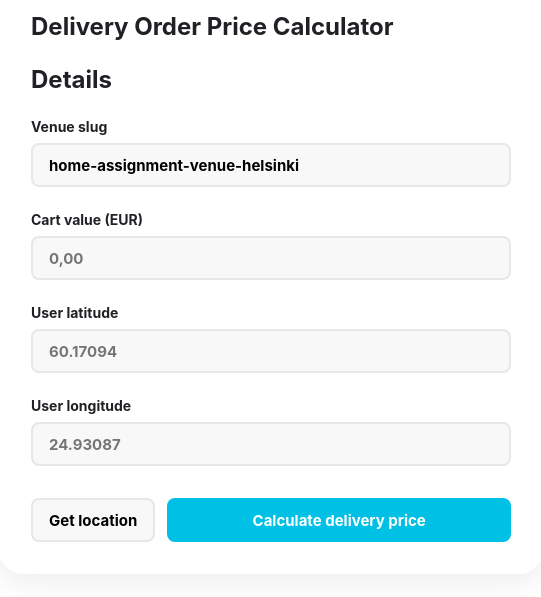
Test: DeliveryCalculator › handles geolocation button click
This screenshot has width=541, height=597.
Click the button with test id "getLocation" at (93, 520), box x1=31 y1=498 x2=155 y2=542
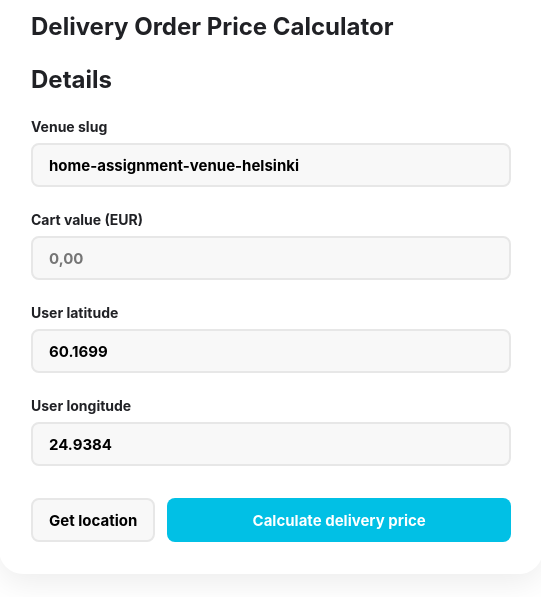
Result: the number field with test id "userLatitude" holds "60.1699" at x1=31 y1=329 x2=511 y2=373
Result: the number field with test id "userLongitude" holds "24.9384" at x1=31 y1=422 x2=511 y2=466
